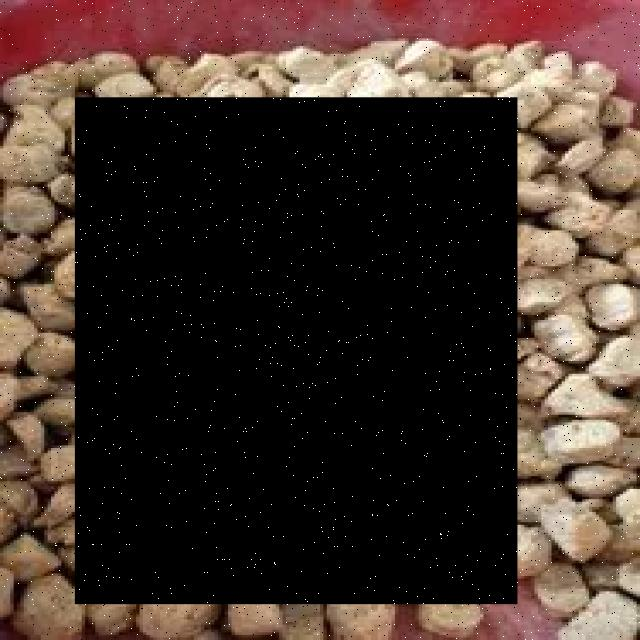Nutrela: (77, 99, 520, 606)
